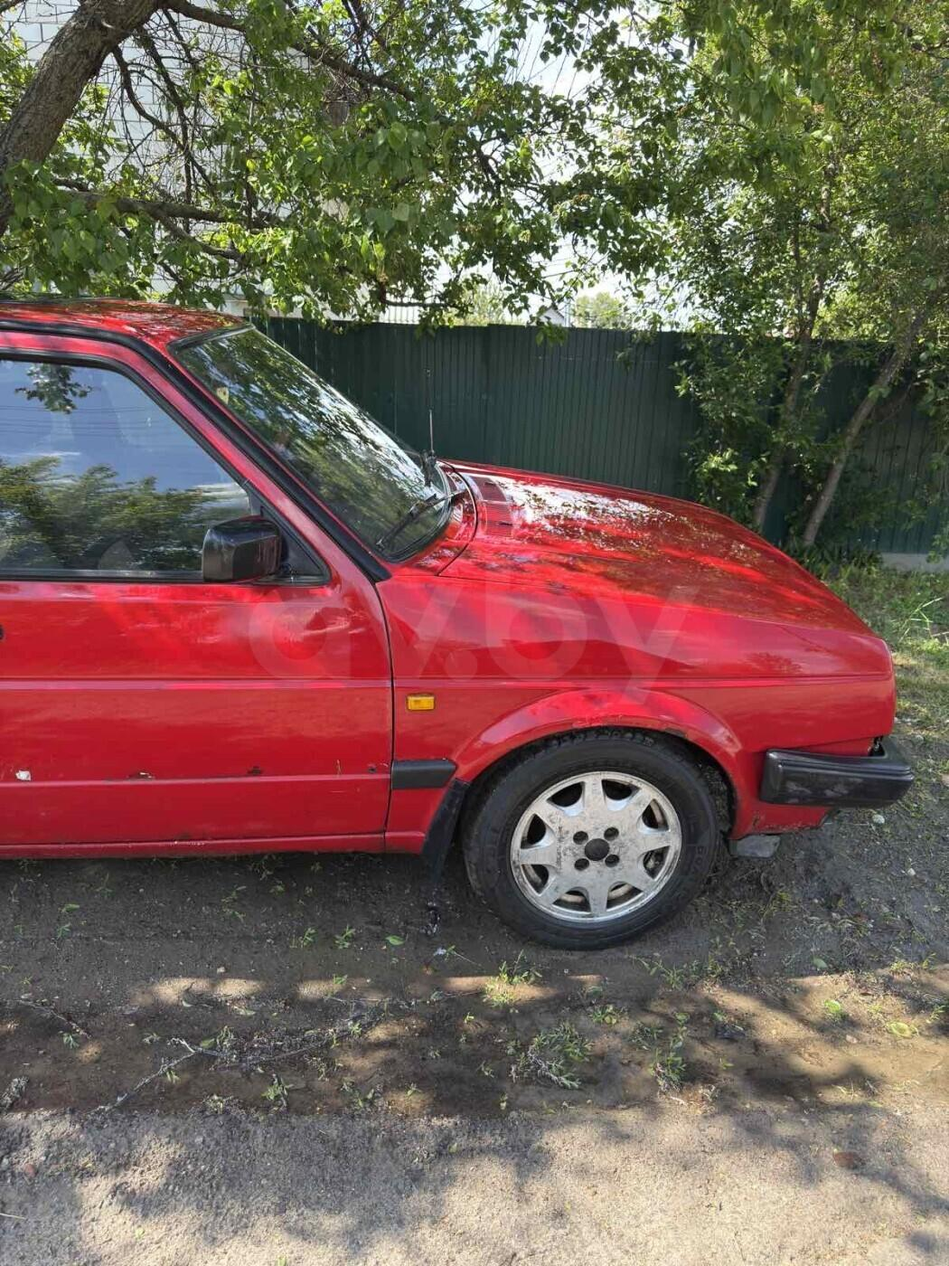Golf_1983-1992: (0, 293, 918, 960)
